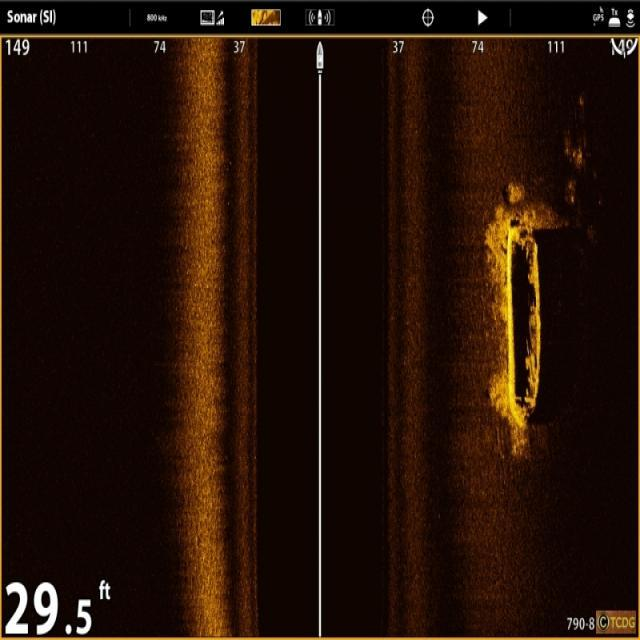shipwreck: (482, 182, 550, 436)
